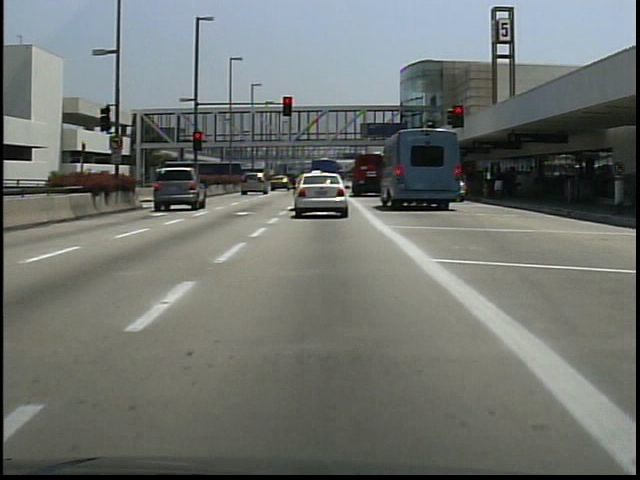person: (491, 165, 505, 204)
